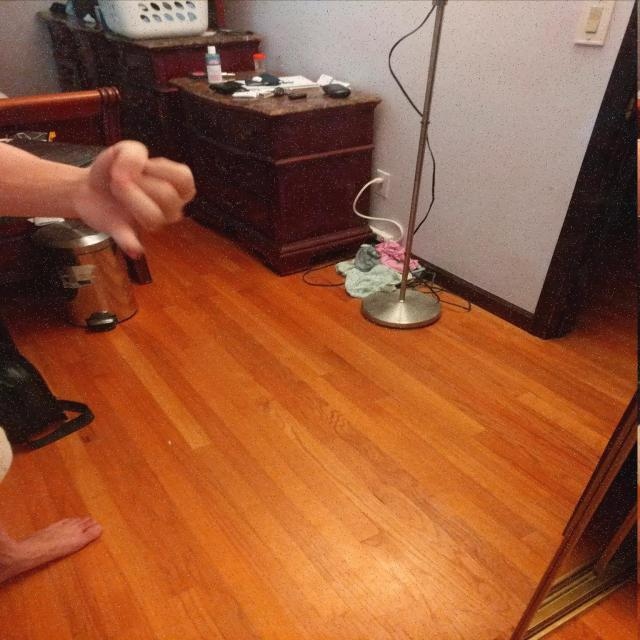J: (70, 135, 203, 266)
